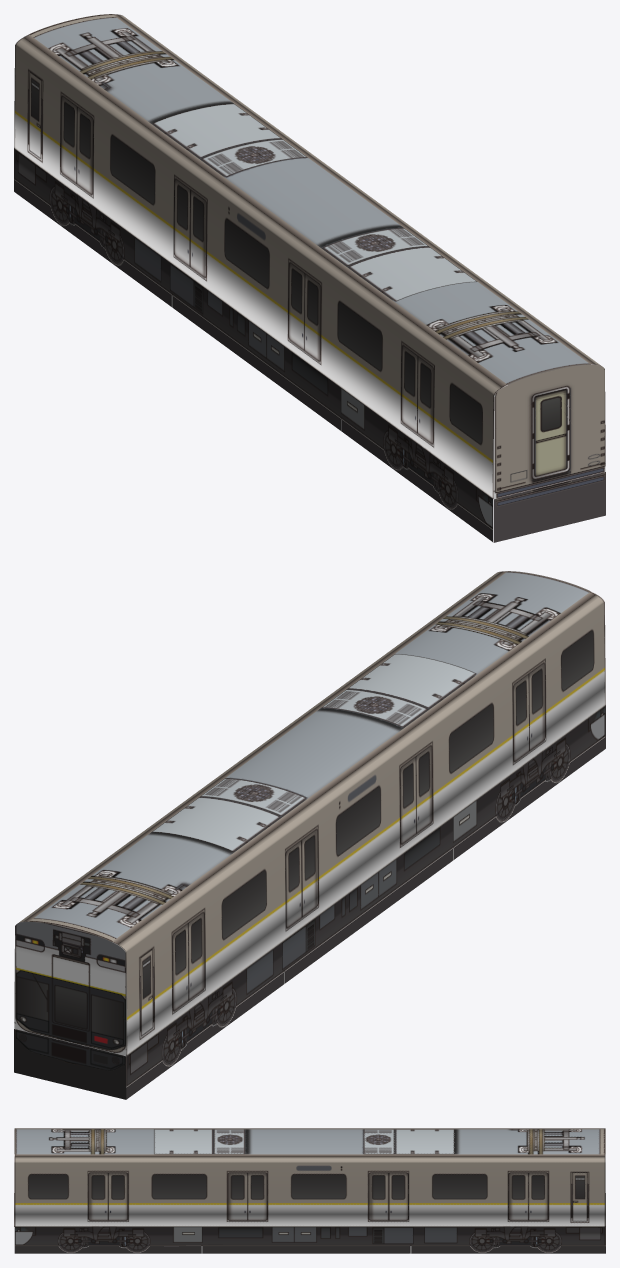
The model's file is car2.glb.
The picture shows the model from 3 angles, top to bottom: view 1: azimuth 30°, elevation 25°; view 2: azimuth 150°, elevation 25°; view 3: azimuth 270°, elevation 25°; orthographic projection. The views are drawn at different scales.
Visible parts, largest first — view 1: kintetsu-9020-car2; view 2: kintetsu-9020-car2; view 3: kintetsu-9020-car2.
Part boxes in pixels (<box>): kintetsu-9020-car2: <box>14,14,605,542</box>; kintetsu-9020-car2: <box>14,571,605,1099</box>; kintetsu-9020-car2: <box>14,1128,605,1253</box>.
Bounding box in the file's own units: 2.8 × 3.77 × 20.75.
8 materials, 7 textured.
